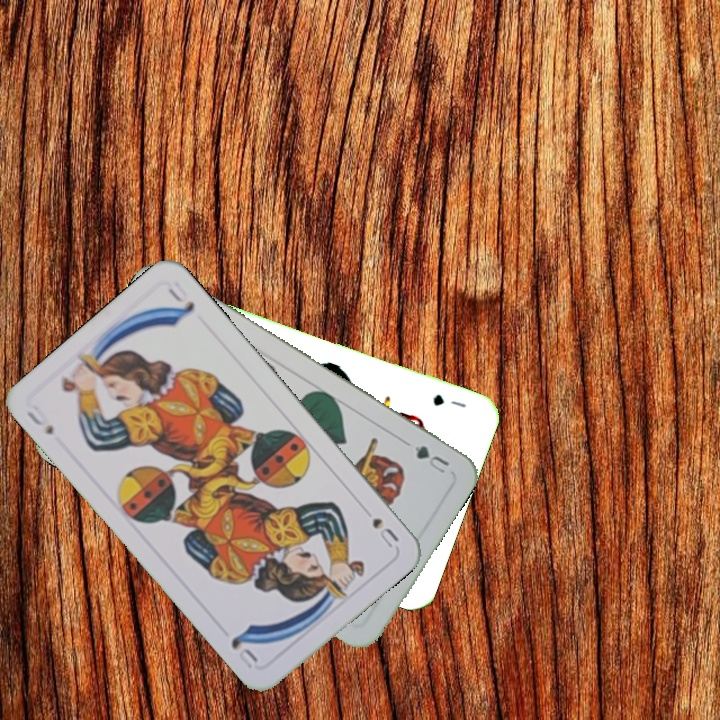GU: (410, 441, 452, 476), (428, 389, 469, 411)
SU: (22, 400, 57, 438), (368, 513, 402, 551)
